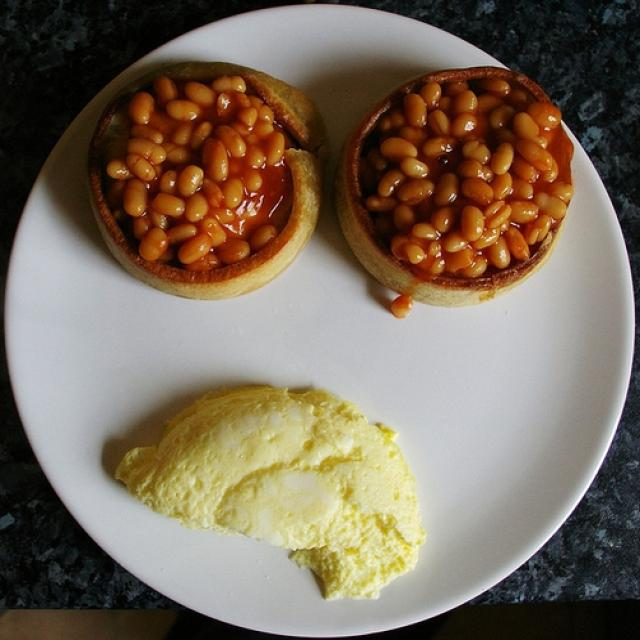鸡蛋料理: (36, 21, 613, 618)
